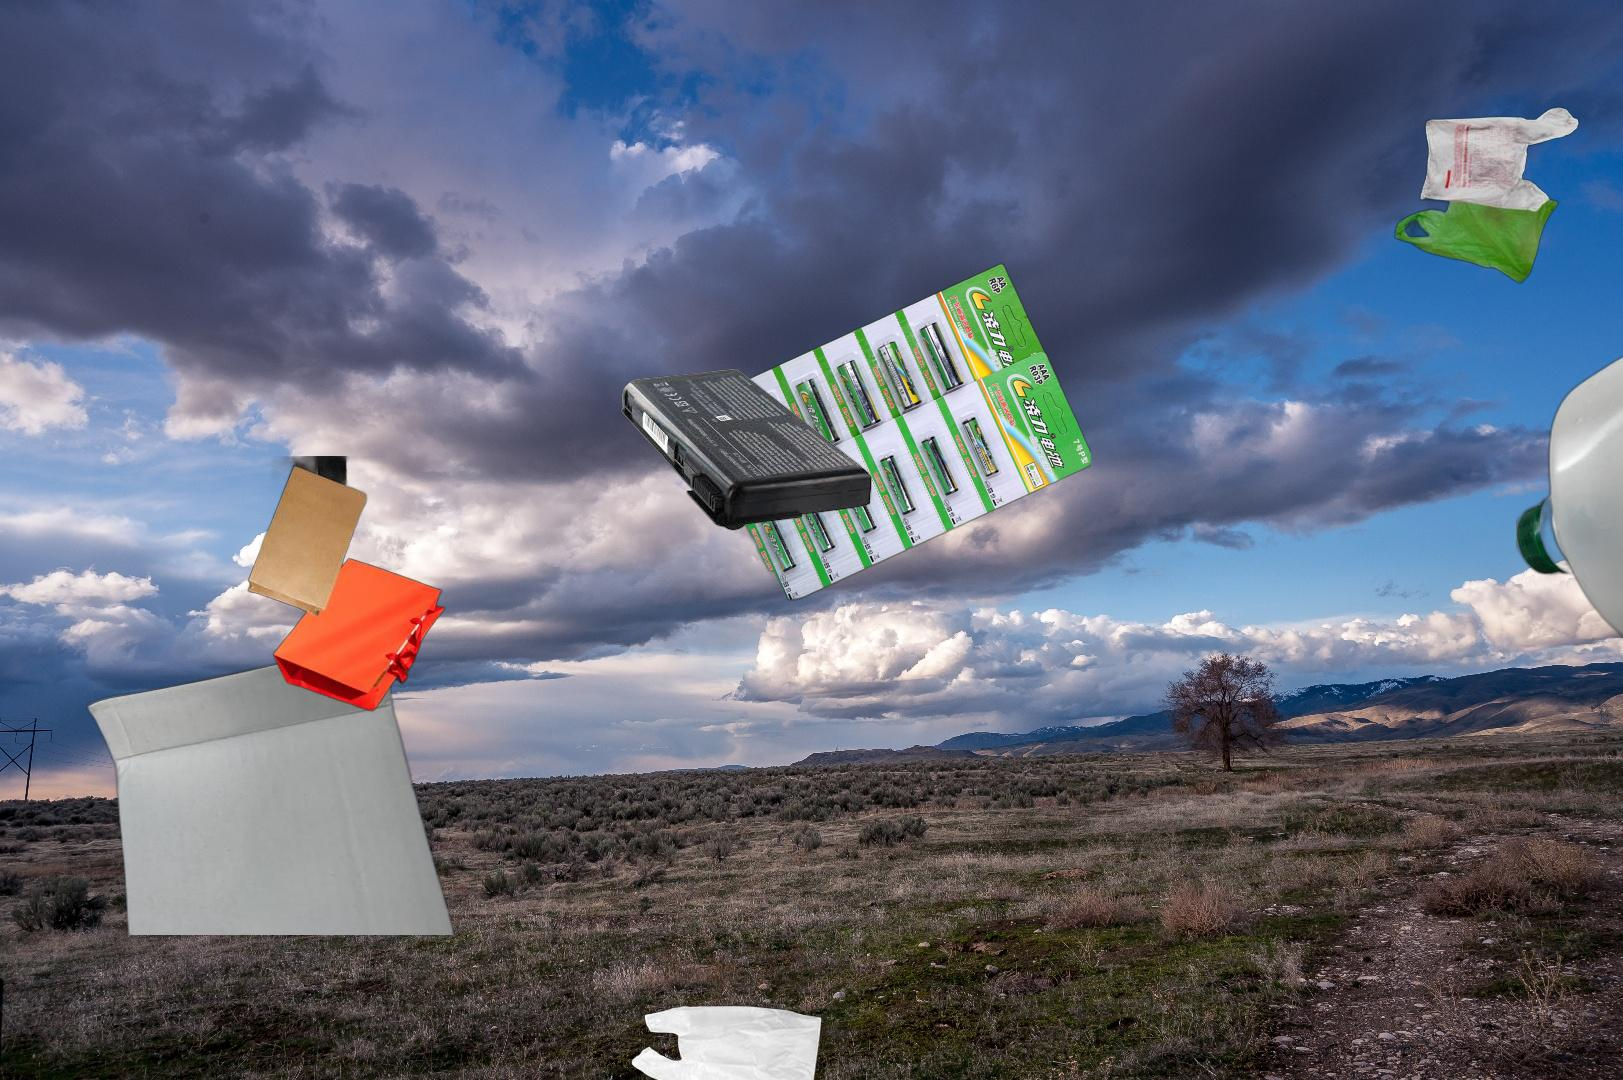battery: (694, 262, 1090, 601), (619, 366, 875, 533)
paper-bag: (245, 456, 448, 714)
plastic-bag: (1392, 106, 1582, 284), (628, 1002, 825, 1080)
plastic-bottles: (1516, 257, 1623, 641)
trashbox-cardboard: (82, 636, 487, 935)
